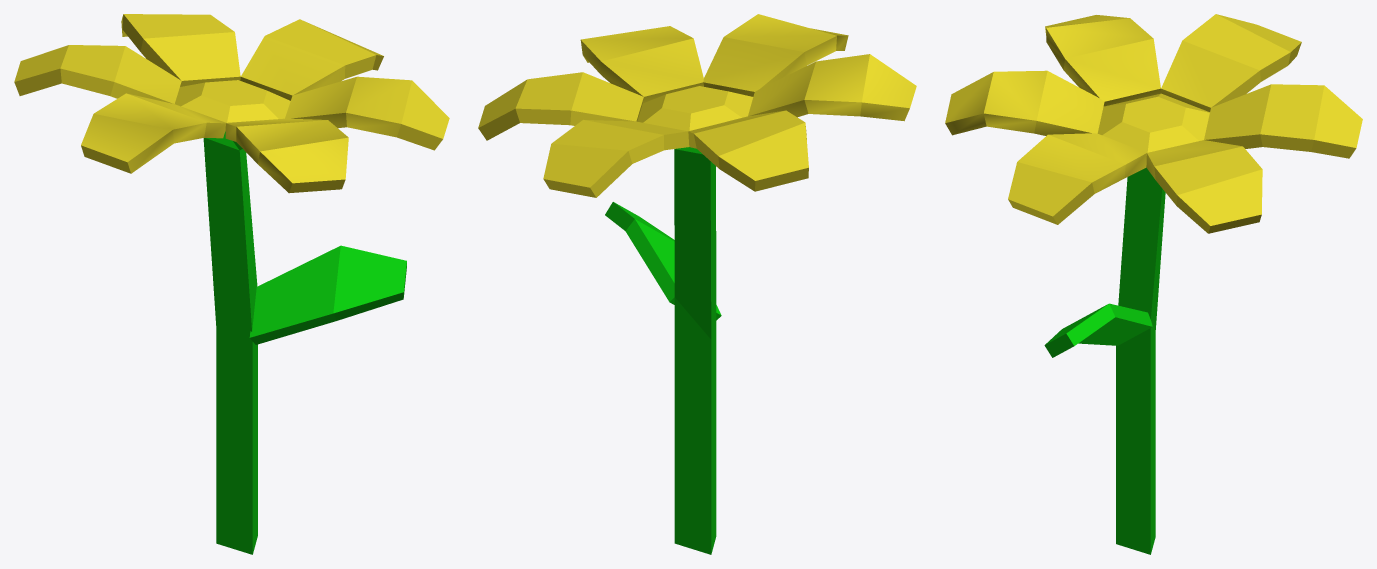
The model's file is Flower01_V2.fbx.
3 views of the same model, side by side, from view 1: azimuth 30°, elevation 25°; view 2: azimuth 150°, elevation 25°; view 3: azimuth 270°, elevation 25° (orthographic). The views are drawn at different scales.
Visible parts, largest first — view 1: Circle.006_Circle.002; view 2: Circle.006_Circle.002; view 3: Circle.006_Circle.002.
Part boxes in pixels (left/top/right/bottom): Circle.006_Circle.002: left=14, top=14, right=449, bottom=554; Circle.006_Circle.002: left=478, top=14, right=916, bottom=554; Circle.006_Circle.002: left=945, top=14, right=1362, bottom=554.
Bounding box in the file's own units: 26.63 × 33.87 × 27.63.
